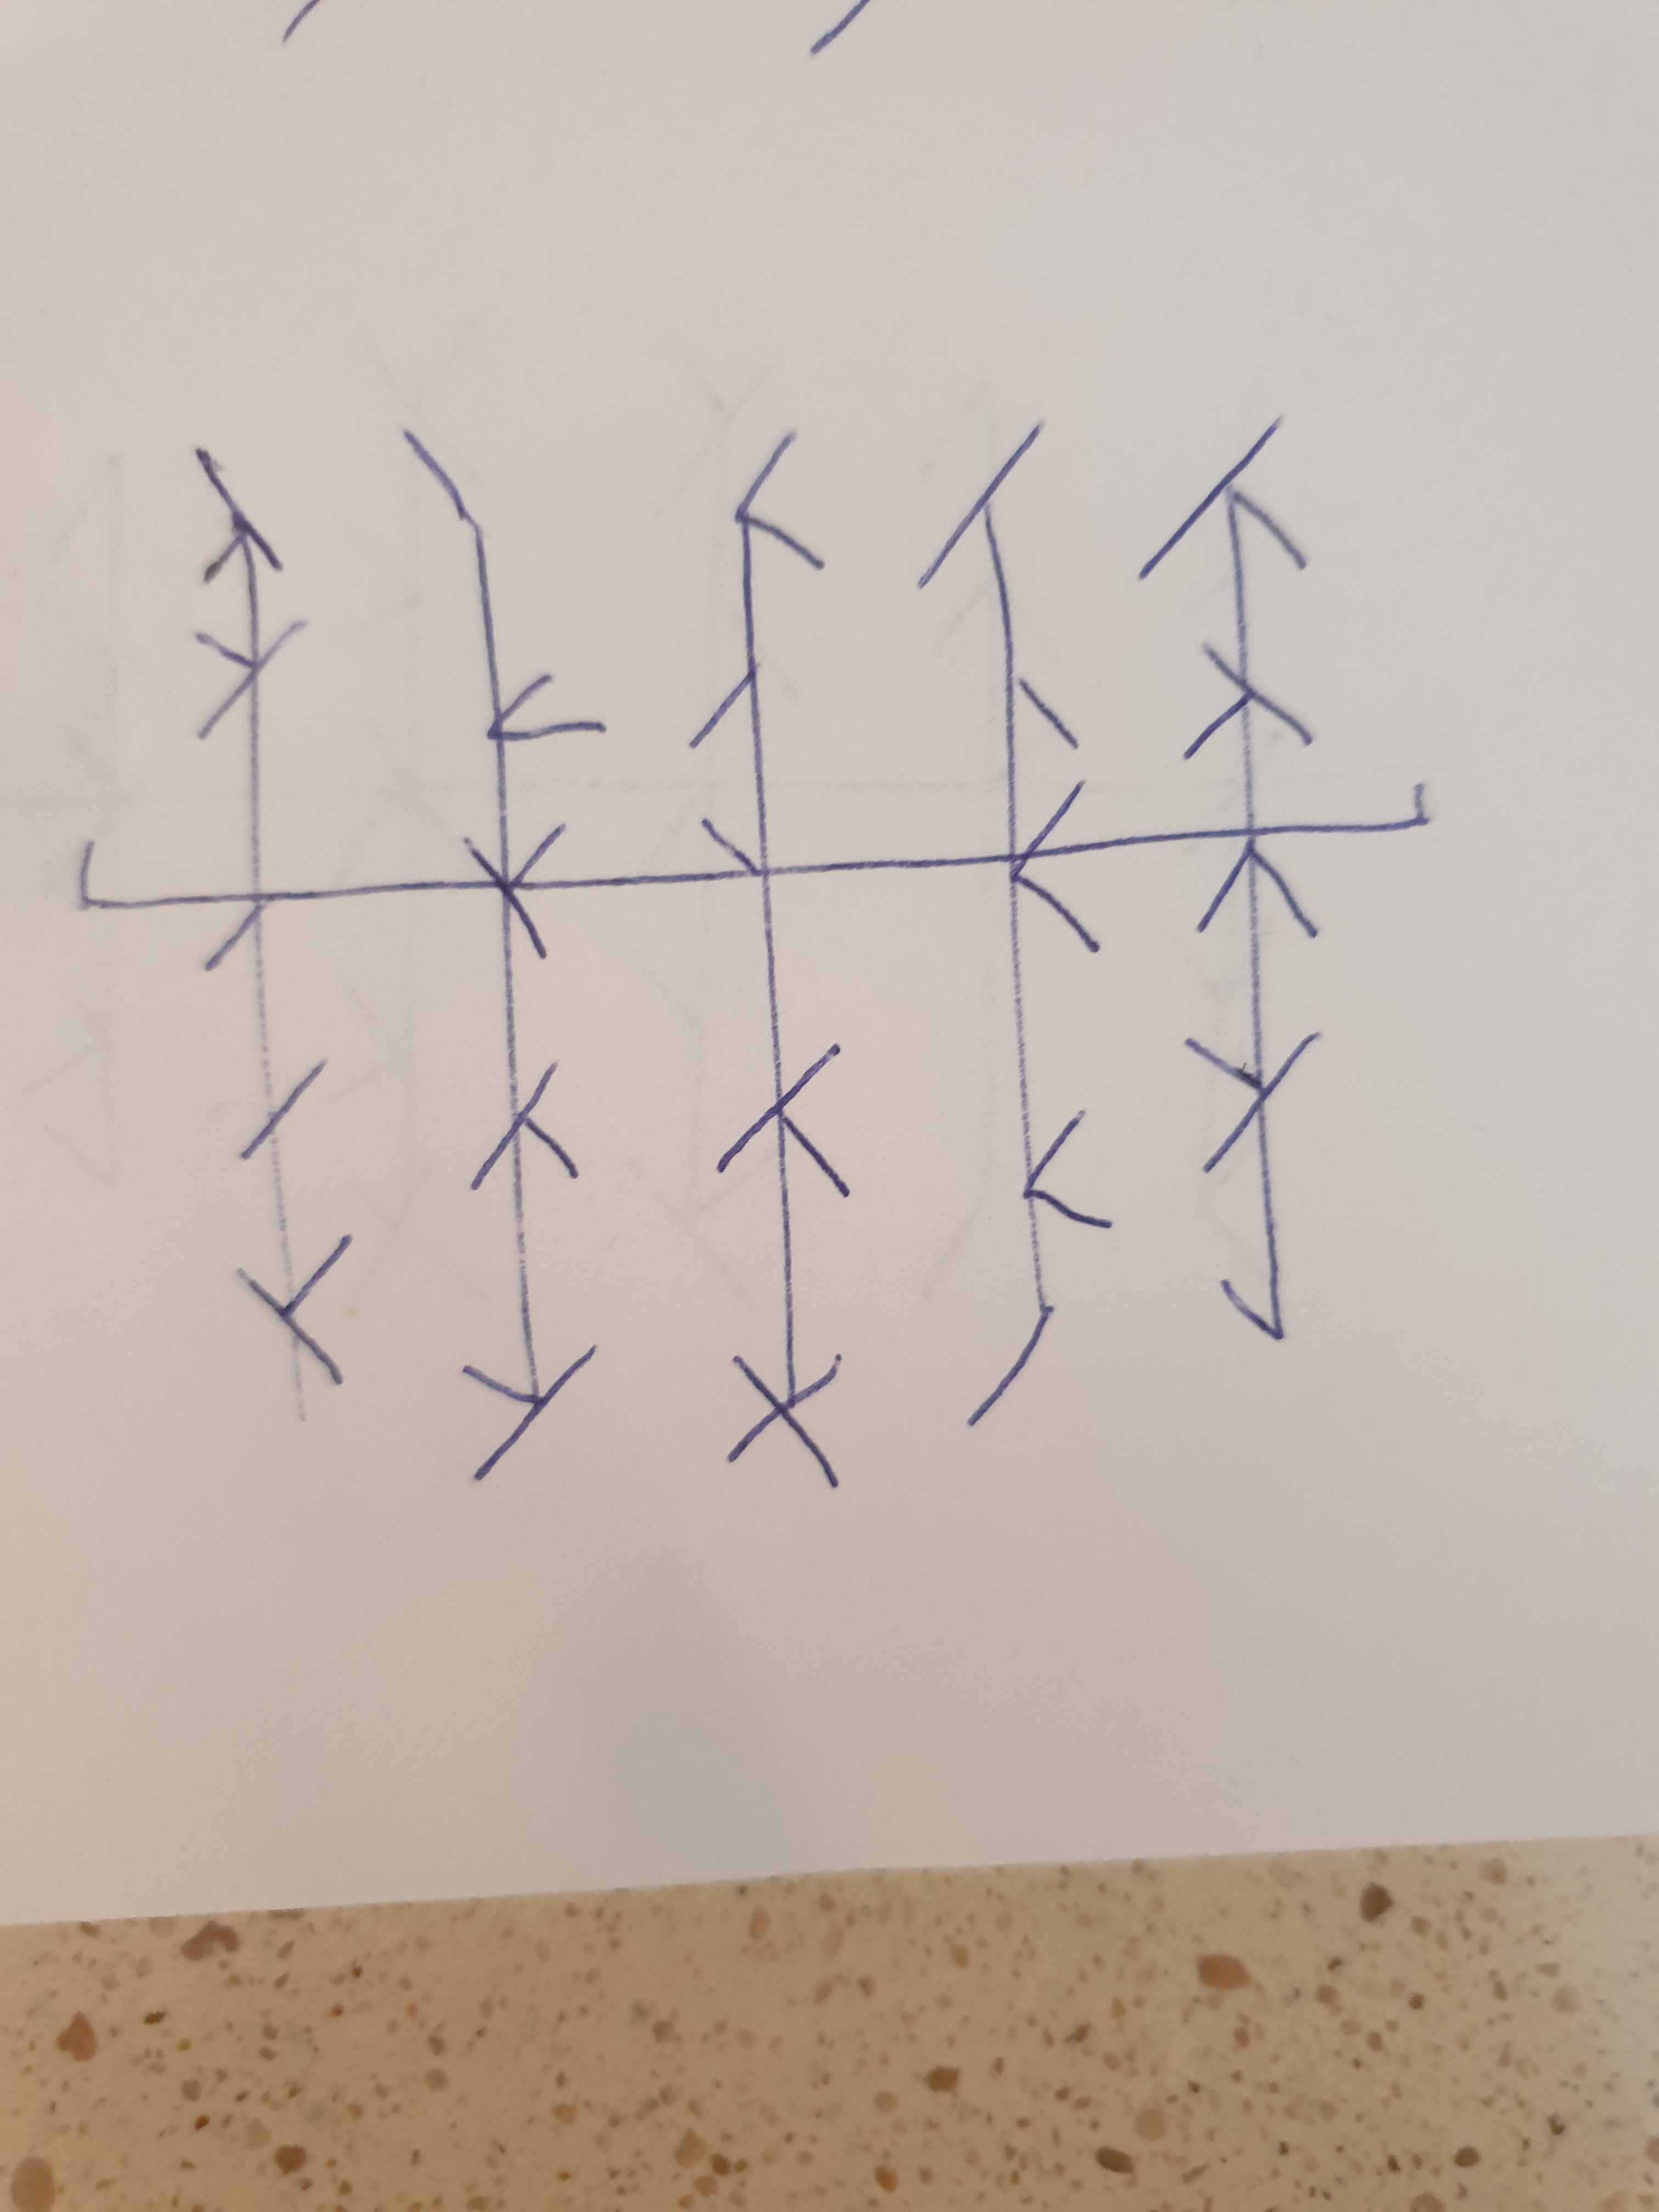Bar: (397, 427, 606, 1477), (917, 420, 1115, 1430), (687, 428, 854, 1487), (1140, 418, 1324, 1339), (186, 448, 350, 1388)
Barcode: (75, 418, 1431, 1489)
End: (1255, 782, 1429, 840)
Start: (77, 838, 244, 913)
